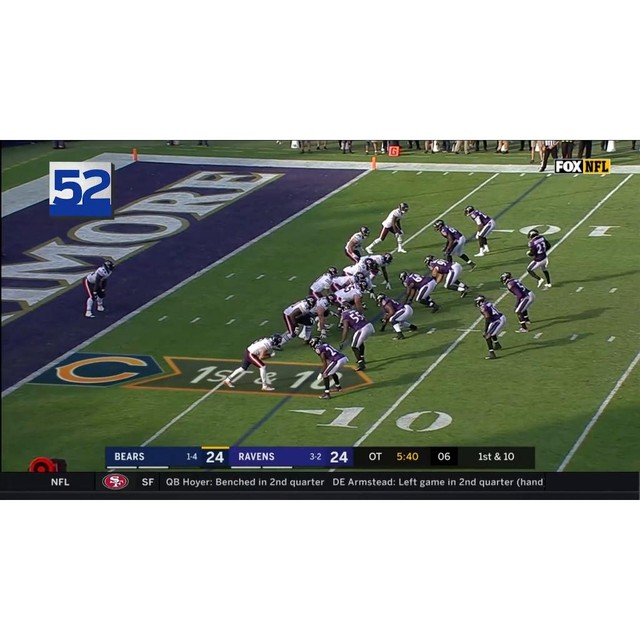american-football-player: (224, 333, 281, 391), (337, 303, 375, 369), (309, 337, 348, 399), (499, 271, 536, 334), (433, 219, 476, 270), (367, 202, 409, 254), (474, 295, 506, 360), (375, 292, 417, 339), (279, 296, 317, 347), (423, 255, 469, 297), (82, 259, 114, 318), (399, 271, 442, 313), (525, 229, 553, 289), (464, 204, 495, 256), (360, 251, 393, 288), (331, 282, 368, 313), (343, 226, 370, 264), (311, 293, 334, 335), (308, 267, 336, 299), (328, 273, 360, 291), (342, 257, 369, 277)
referee: (538, 141, 559, 172)
